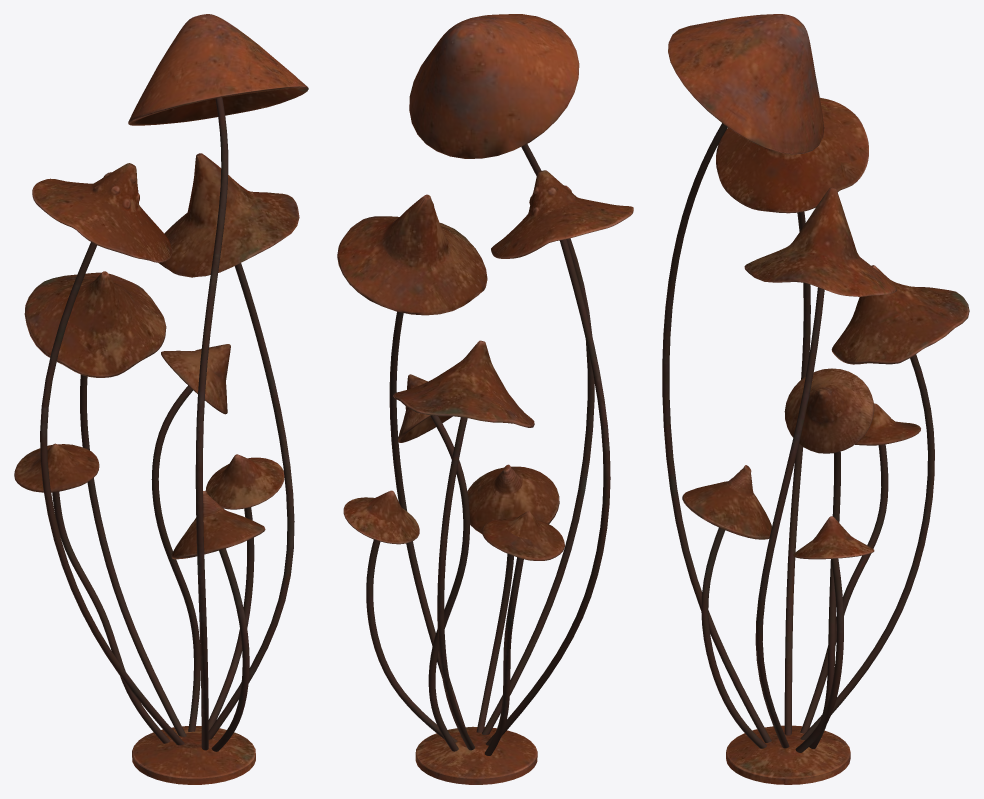
Rendered from rusty_mushroom_garden_statue_4588b925.fbx.
The picture shows the model from 3 angles, left to right: view 1: azimuth 30°, elevation 25°; view 2: azimuth 150°, elevation 25°; view 3: azimuth 270°, elevation 25°; orthographic projection. The views are drawn at different scales.
Visible parts, largest first — view 1: rusty_mushroom_garden_statue_4588b925; view 2: rusty_mushroom_garden_statue_4588b925; view 3: rusty_mushroom_garden_statue_4588b925.
Boxes of the visible parts, x1,y1,x2,y2 form: rusty_mushroom_garden_statue_4588b925: (14,14,308,784); rusty_mushroom_garden_statue_4588b925: (337,14,633,784); rusty_mushroom_garden_statue_4588b925: (662,14,969,784).
Size of the model in its own units: 0.5932 by 1.6 by 0.5962.
Materials: 1 (1 with a texture image).
